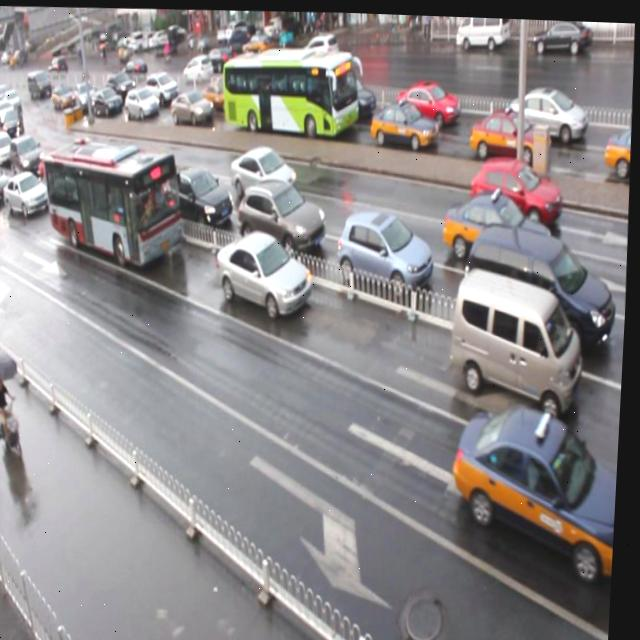car: (449, 398, 624, 576), (215, 223, 317, 319), (441, 183, 556, 267), (335, 204, 436, 297), (468, 150, 564, 229), (238, 173, 329, 254), (511, 82, 599, 145), (474, 103, 557, 164), (163, 162, 237, 227), (231, 141, 300, 205), (370, 98, 440, 152), (394, 77, 462, 129), (322, 70, 378, 123), (117, 157, 169, 211), (5, 168, 54, 218), (70, 146, 112, 189), (171, 88, 215, 125), (38, 145, 77, 186), (143, 69, 182, 106), (608, 121, 633, 176), (125, 84, 161, 119), (9, 137, 40, 175), (202, 76, 234, 110), (105, 67, 137, 99), (94, 84, 124, 114), (75, 81, 98, 111), (0, 162, 14, 205)
truck: (463, 213, 620, 358), (450, 257, 589, 417)
van: (40, 136, 191, 271), (220, 43, 364, 140)
